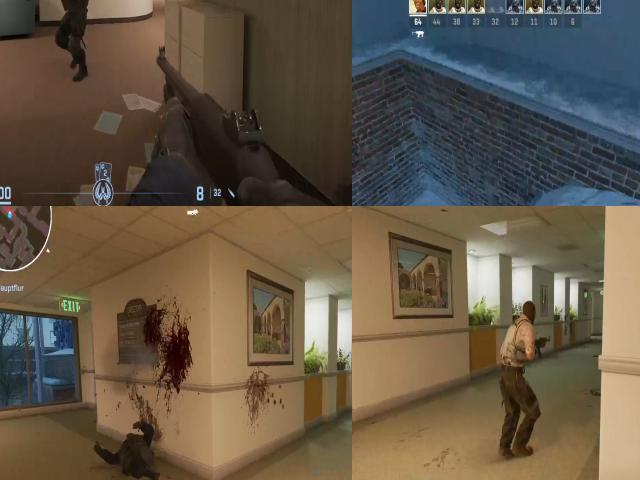CT: (54, 0, 90, 66)
Dead: (108, 425, 166, 480)
T: (494, 293, 545, 373), (511, 299, 542, 325)
